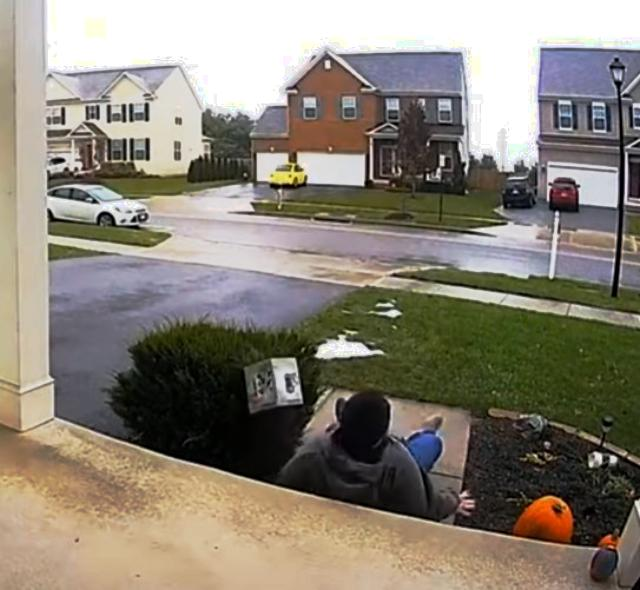jatuh: (270, 387, 482, 529)
